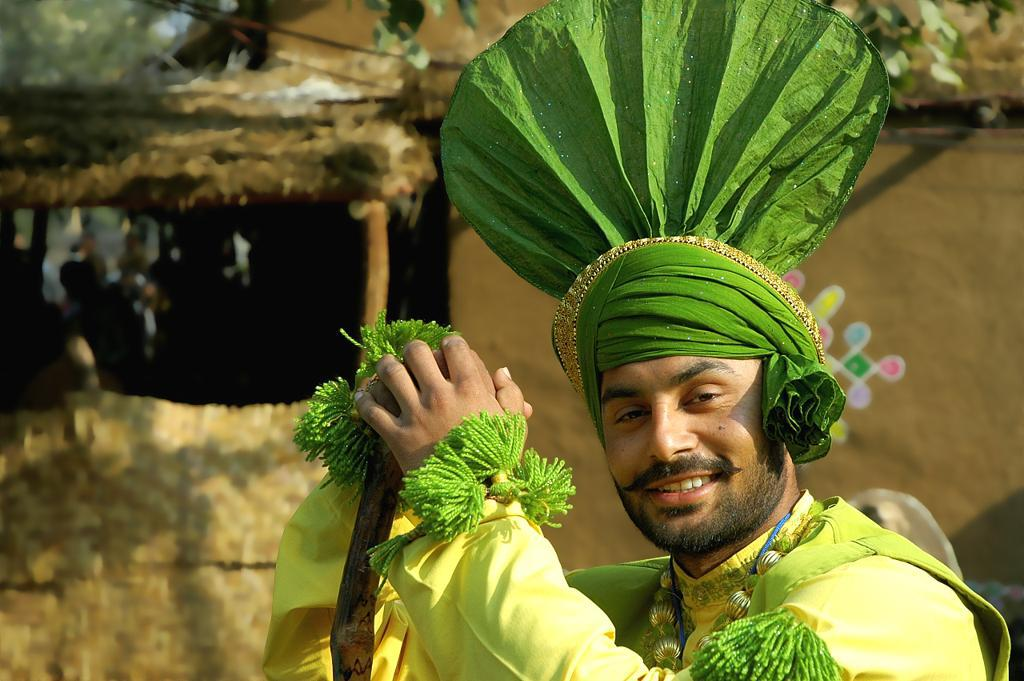face: (599, 309, 787, 547)
